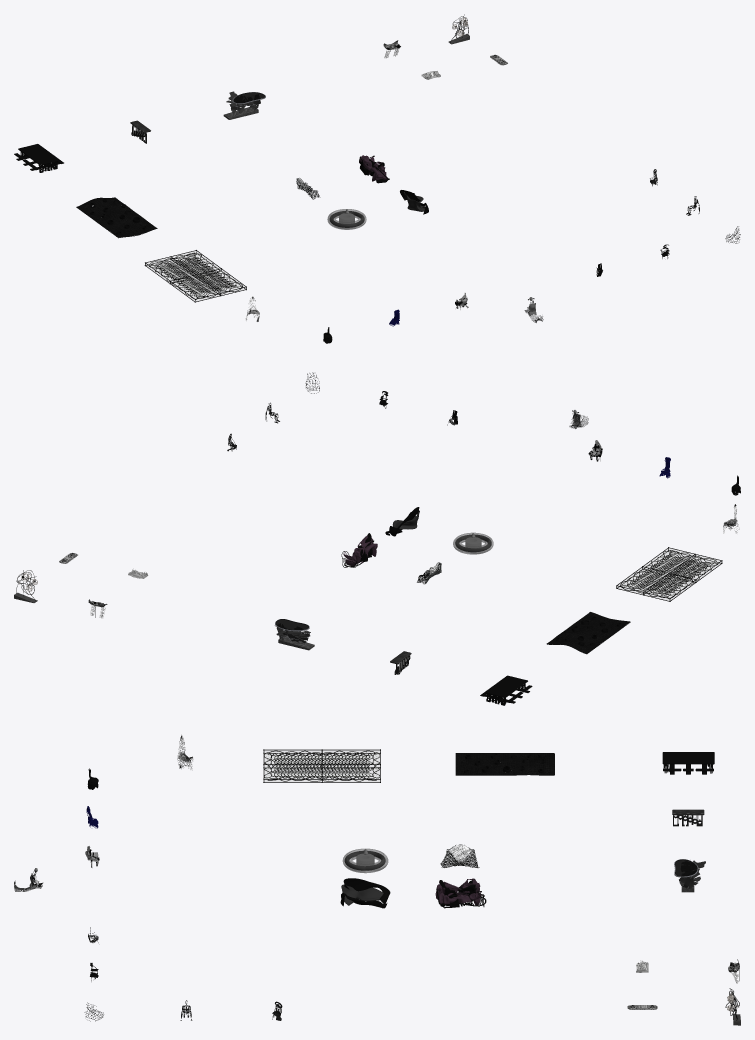
3 views of the same model, one above another, from view 1: azimuth 30°, elevation 25°; view 2: azimuth 150°, elevation 25°; view 3: azimuth 270°, elevation 25° (orthographic). The views are drawn at different scales.
Parts seen in each view (by area): view 1: 4, spooky-blackigator-carpet, BoardROOMTABLE- BLCK, Mesh_3, Torus, Merged Objects 1; view 2: 4, spooky-blackigator-carpet, BoardROOMTABLE- BLCK, Mesh_3, Torus, Merged Objects 1; view 3: 4, spooky-blackigator-carpet, Merged Objects.001, Merged Objects 1, BoardROOMTABLE- BLCK, Torus, Mesh_3, Mesh_2.003.
Part boxes in pixels (x1,y1,x2,y2): 4: (144, 250, 246, 302); spooky-blackigator-carpet: (76, 197, 157, 238); BoardROOMTABLE- BLCK: (14, 144, 63, 172); Mesh_3: (223, 91, 265, 119); Torus: (327, 209, 366, 229); Merged Objects 1: (359, 155, 389, 183); 4: (616, 547, 722, 601); spooky-blackigator-carpet: (546, 612, 630, 654); BoardROOMTABLE- BLCK: (480, 675, 532, 705); Mesh_3: (274, 619, 314, 650); Torus: (453, 532, 493, 554); Merged Objects 1: (341, 533, 377, 567); 4: (263, 749, 380, 782); spooky-blackigator-carpet: (455, 753, 554, 775); Merged Objects.001: (340, 878, 390, 908); Merged Objects 1: (435, 878, 486, 908); BoardROOMTABLE- BLCK: (662, 752, 714, 774); Torus: (342, 848, 388, 873); Mesh_3: (674, 859, 705, 892); Mesh_2.003: (440, 844, 479, 867).
Bounding box in the file's own units: 37.94 × 2.11 × 42.86.
Materials: 64 (19 with a texture image).
